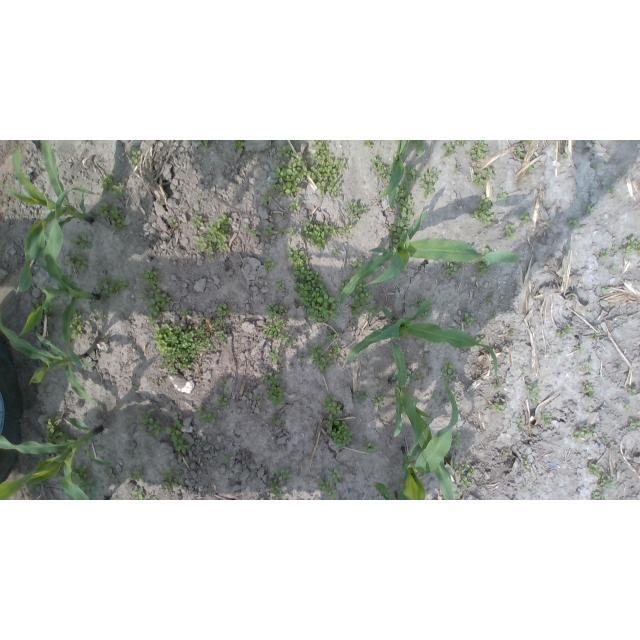Maize: (19, 186, 99, 405), (341, 210, 524, 305), (344, 293, 500, 385), (7, 140, 94, 290), (1, 297, 96, 408), (391, 341, 456, 500), (0, 416, 104, 500), (398, 382, 459, 500), (375, 141, 410, 212), (372, 481, 402, 500)
Weeds: (286, 246, 340, 322), (153, 323, 214, 375), (309, 140, 347, 198), (270, 154, 310, 199), (321, 394, 353, 450), (196, 216, 234, 261), (139, 284, 172, 324), (350, 280, 382, 317), (71, 461, 101, 500), (301, 218, 335, 252), (388, 208, 414, 248), (97, 201, 128, 231), (164, 421, 191, 455), (96, 274, 130, 299), (263, 371, 285, 406), (471, 194, 494, 227), (42, 415, 69, 443), (139, 411, 162, 438), (370, 156, 392, 184), (100, 174, 124, 199), (309, 344, 329, 373), (455, 462, 476, 489), (421, 168, 440, 197), (472, 167, 496, 189), (69, 309, 86, 340), (211, 303, 230, 330), (395, 181, 414, 208), (67, 251, 90, 273), (264, 300, 288, 321), (263, 320, 288, 339), (162, 467, 182, 490), (318, 475, 336, 500), (268, 480, 289, 501), (137, 267, 160, 286), (469, 140, 488, 162), (347, 201, 367, 221), (440, 359, 457, 382), (196, 407, 216, 426), (70, 234, 92, 250), (623, 236, 640, 256), (408, 364, 429, 380), (524, 384, 539, 405), (361, 435, 378, 453), (132, 488, 153, 501), (279, 331, 296, 347), (600, 475, 617, 491), (327, 346, 341, 365), (408, 140, 427, 154), (129, 147, 141, 169), (575, 428, 595, 441), (329, 468, 344, 485), (404, 163, 419, 180), (566, 217, 583, 232), (264, 256, 277, 275), (268, 348, 282, 365), (259, 191, 274, 206), (278, 144, 293, 159), (215, 330, 229, 346), (350, 256, 366, 270), (491, 398, 505, 414), (25, 297, 41, 311), (276, 468, 293, 481), (504, 223, 516, 240), (191, 214, 205, 228), (588, 462, 602, 476), (355, 391, 368, 406), (216, 395, 231, 408), (371, 396, 385, 409), (442, 143, 454, 158), (445, 261, 457, 276), (462, 312, 474, 327), (521, 454, 530, 473), (340, 278, 353, 291), (582, 384, 595, 397), (518, 209, 530, 223), (592, 490, 608, 500), (168, 216, 181, 228), (327, 330, 338, 344), (132, 467, 143, 481), (337, 225, 354, 234), (263, 224, 275, 236), (288, 226, 300, 238), (478, 263, 490, 275), (628, 418, 640, 430), (541, 412, 552, 425), (107, 467, 117, 481), (275, 279, 286, 291), (289, 201, 301, 212), (451, 435, 461, 448), (516, 146, 526, 159), (424, 304, 433, 318), (413, 294, 423, 306), (475, 337, 485, 349), (516, 417, 524, 432), (454, 141, 471, 148), (273, 416, 286, 425), (584, 361, 593, 374), (251, 228, 262, 238), (295, 352, 305, 363), (97, 311, 107, 322), (233, 140, 246, 148), (330, 249, 340, 259), (181, 308, 192, 317), (224, 454, 235, 463), (497, 193, 509, 201), (600, 249, 609, 259), (564, 325, 573, 334), (624, 404, 633, 413), (600, 285, 609, 294), (500, 449, 508, 459), (364, 141, 375, 148), (254, 396, 262, 405), (452, 394, 460, 403), (628, 387, 637, 395), (576, 344, 584, 353), (585, 204, 593, 213), (198, 141, 208, 148), (279, 228, 286, 237), (556, 332, 566, 338), (29, 484, 36, 491), (492, 383, 499, 390), (487, 296, 494, 303), (198, 315, 204, 323), (592, 333, 598, 341), (610, 247, 618, 253), (607, 187, 615, 193), (508, 331, 515, 337), (610, 265, 616, 272), (528, 164, 534, 171), (563, 152, 570, 158), (483, 248, 489, 254), (56, 450, 63, 455), (220, 379, 225, 385), (456, 325, 461, 331), (198, 200, 204, 205), (600, 217, 606, 222), (453, 168, 459, 173), (523, 141, 531, 144), (524, 488, 529, 492)
